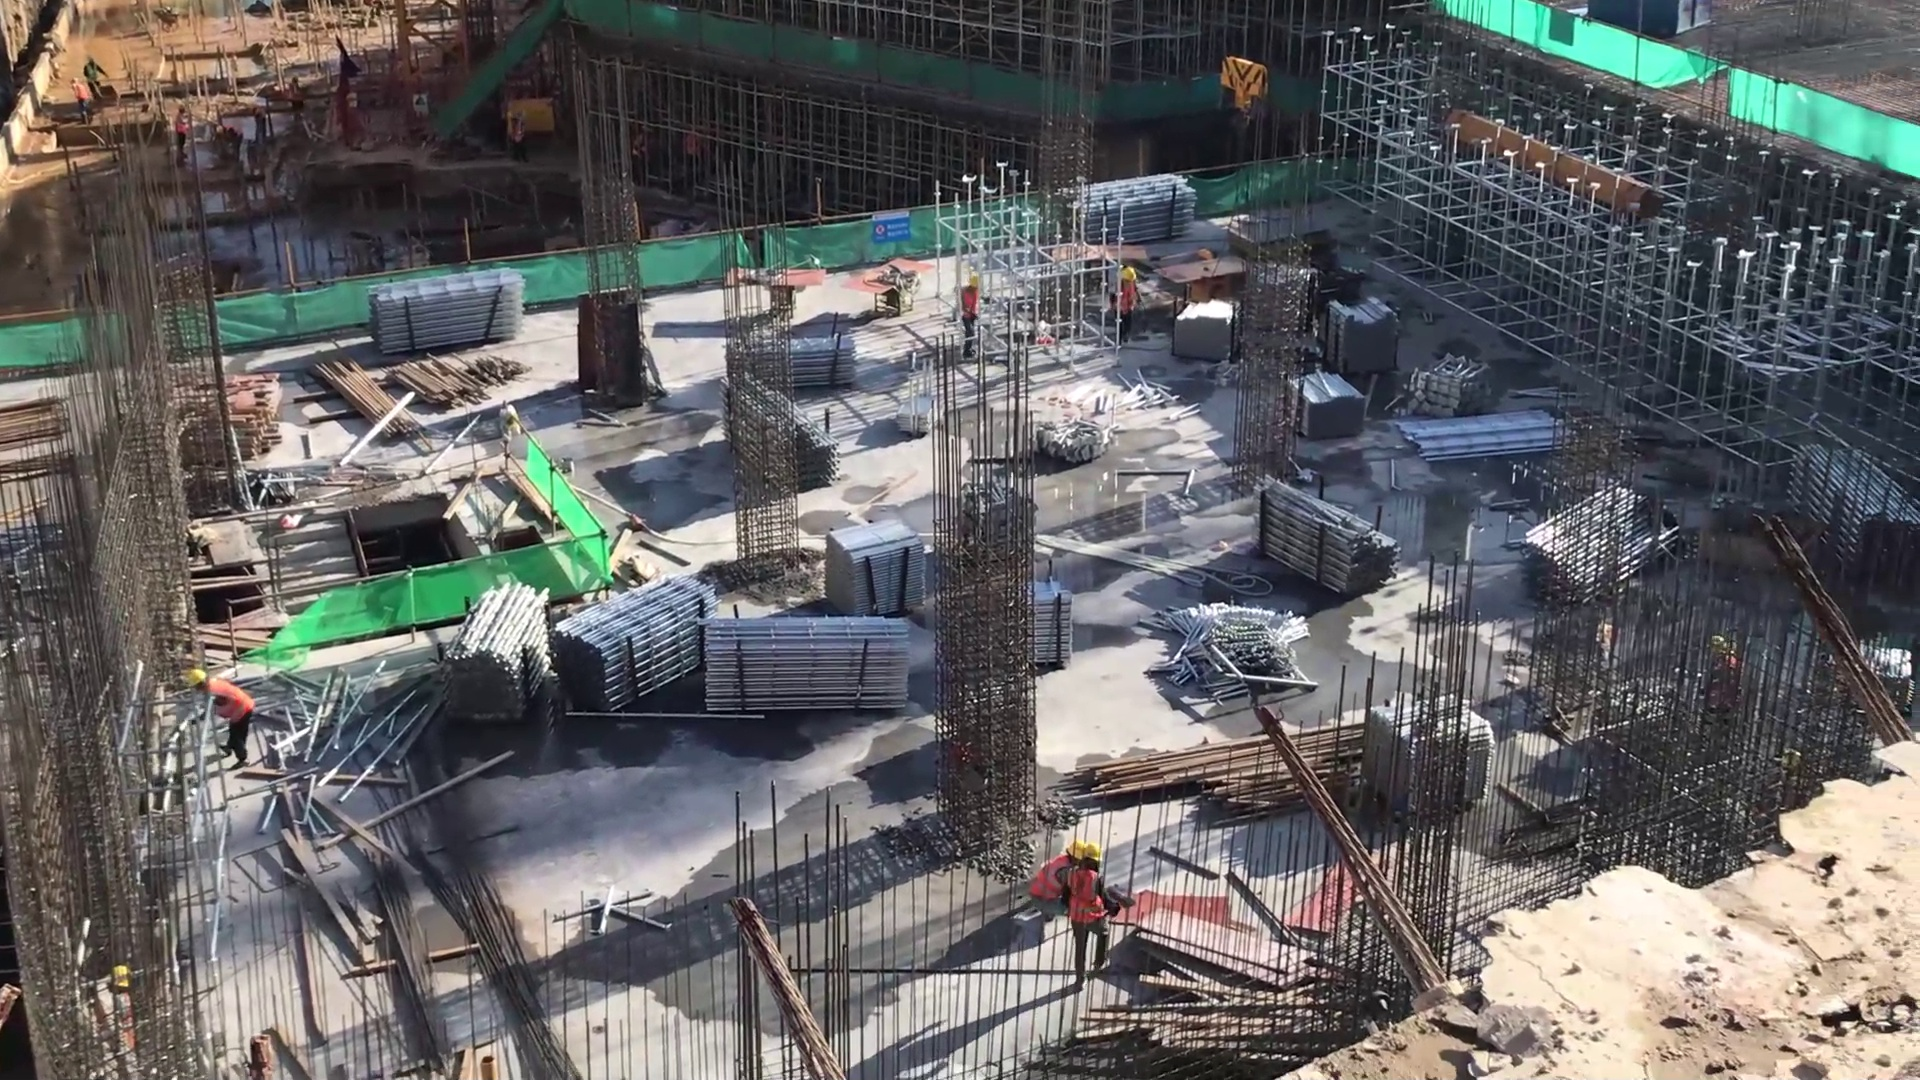cutter: (722, 256, 832, 320), (839, 251, 941, 317)
ebox: (498, 88, 562, 155)
helmet: (1057, 834, 1085, 866), (182, 665, 211, 695), (1078, 838, 1105, 869), (1116, 265, 1139, 289), (962, 269, 985, 289)
hook: (1210, 45, 1274, 124)
hopper: (1583, 1, 1717, 45)
person: (177, 662, 259, 778), (1065, 839, 1123, 983), (1023, 837, 1087, 904), (951, 271, 990, 354), (1110, 261, 1143, 336)
scaffold: (549, 564, 728, 720), (697, 607, 922, 725), (1250, 467, 1403, 598), (440, 574, 564, 732), (364, 260, 539, 359), (819, 509, 931, 635), (1079, 171, 1204, 249), (1317, 294, 1407, 381), (1169, 285, 1251, 369), (1289, 370, 1372, 441), (789, 316, 865, 388)
vest: (1066, 867, 1112, 929), (206, 677, 256, 729), (1024, 849, 1067, 906), (954, 284, 984, 326), (1111, 286, 1141, 320)
